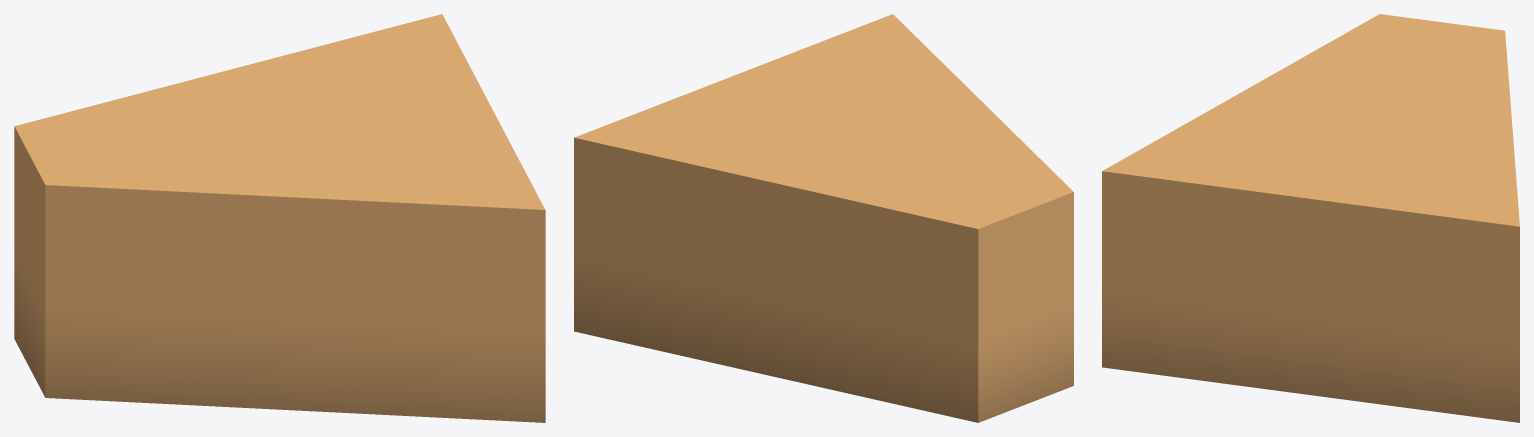
File: PlatTri01.006.glb
3 renders of one model, left to right at view 1: azimuth 30°, elevation 25°; view 2: azimuth 150°, elevation 25°; view 3: azimuth 270°, elevation 25°, orthographic. The views are drawn at different scales.
Parts seen in each view (by area): view 1: PlatTri01.006; view 2: PlatTri01.006; view 3: PlatTri01.006.
Part boxes in pixels (box(x1,y1,x2,y2)): PlatTri01.006: box(14, 14, 545, 422); PlatTri01.006: box(574, 14, 1073, 422); PlatTri01.006: box(1102, 14, 1519, 422).
Size of what is drawn, in the model's own units: 2.68 by 1.15 by 2.22.
Materials: 1 (1 with a texture image).
